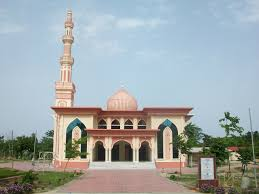Mosque: (49, 4, 194, 171)
